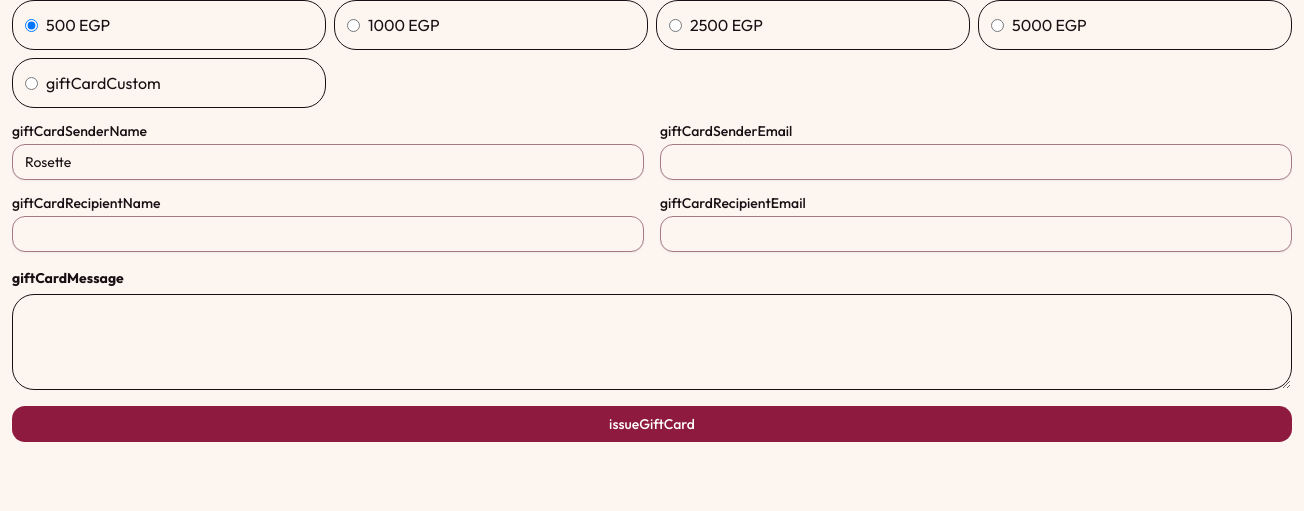
Test: AdminGiftCardForm › renders amount controls and recipient fields without a plaintext code field
Click the text "giftCardCustom". click: (103, 83)
box: [12, 58, 326, 108]
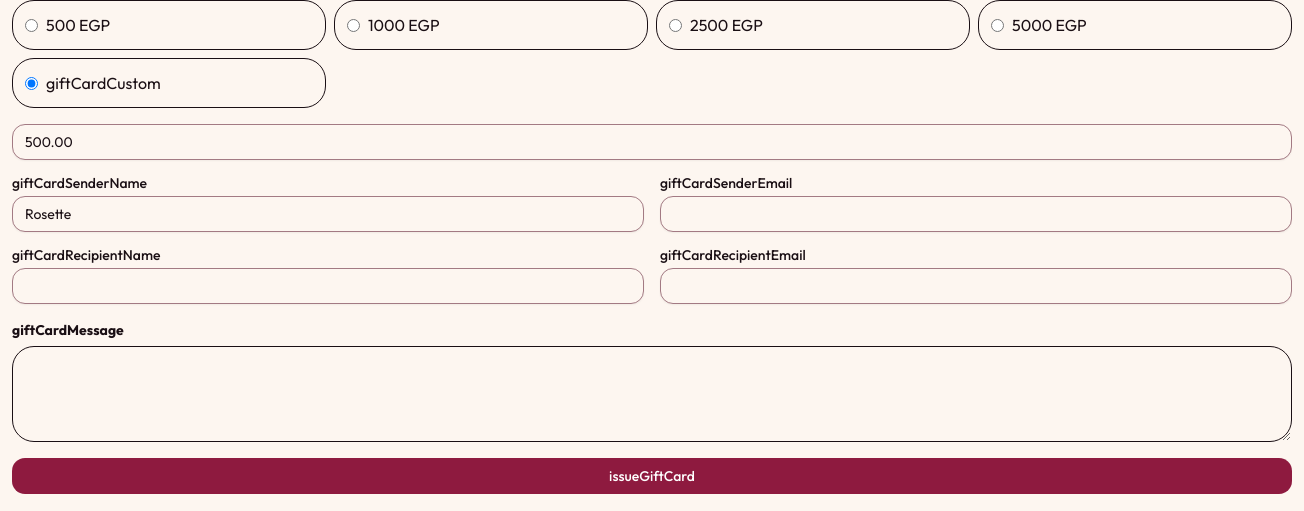
Expected: the field labelled "giftCardRecipientEmail" is shown, [660, 268, 1292, 304]
Result: the number field named "giftCardCustomAmount" is shown at [12, 124, 1292, 160]
